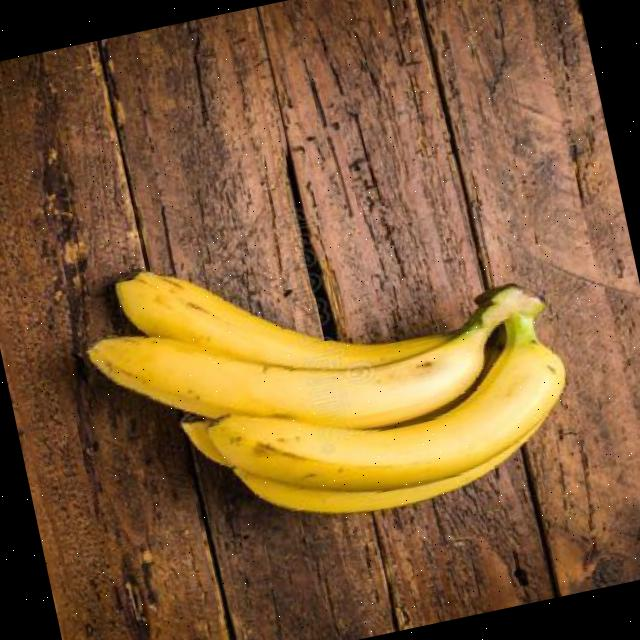banana: (78, 271, 484, 430), (187, 339, 562, 499)
